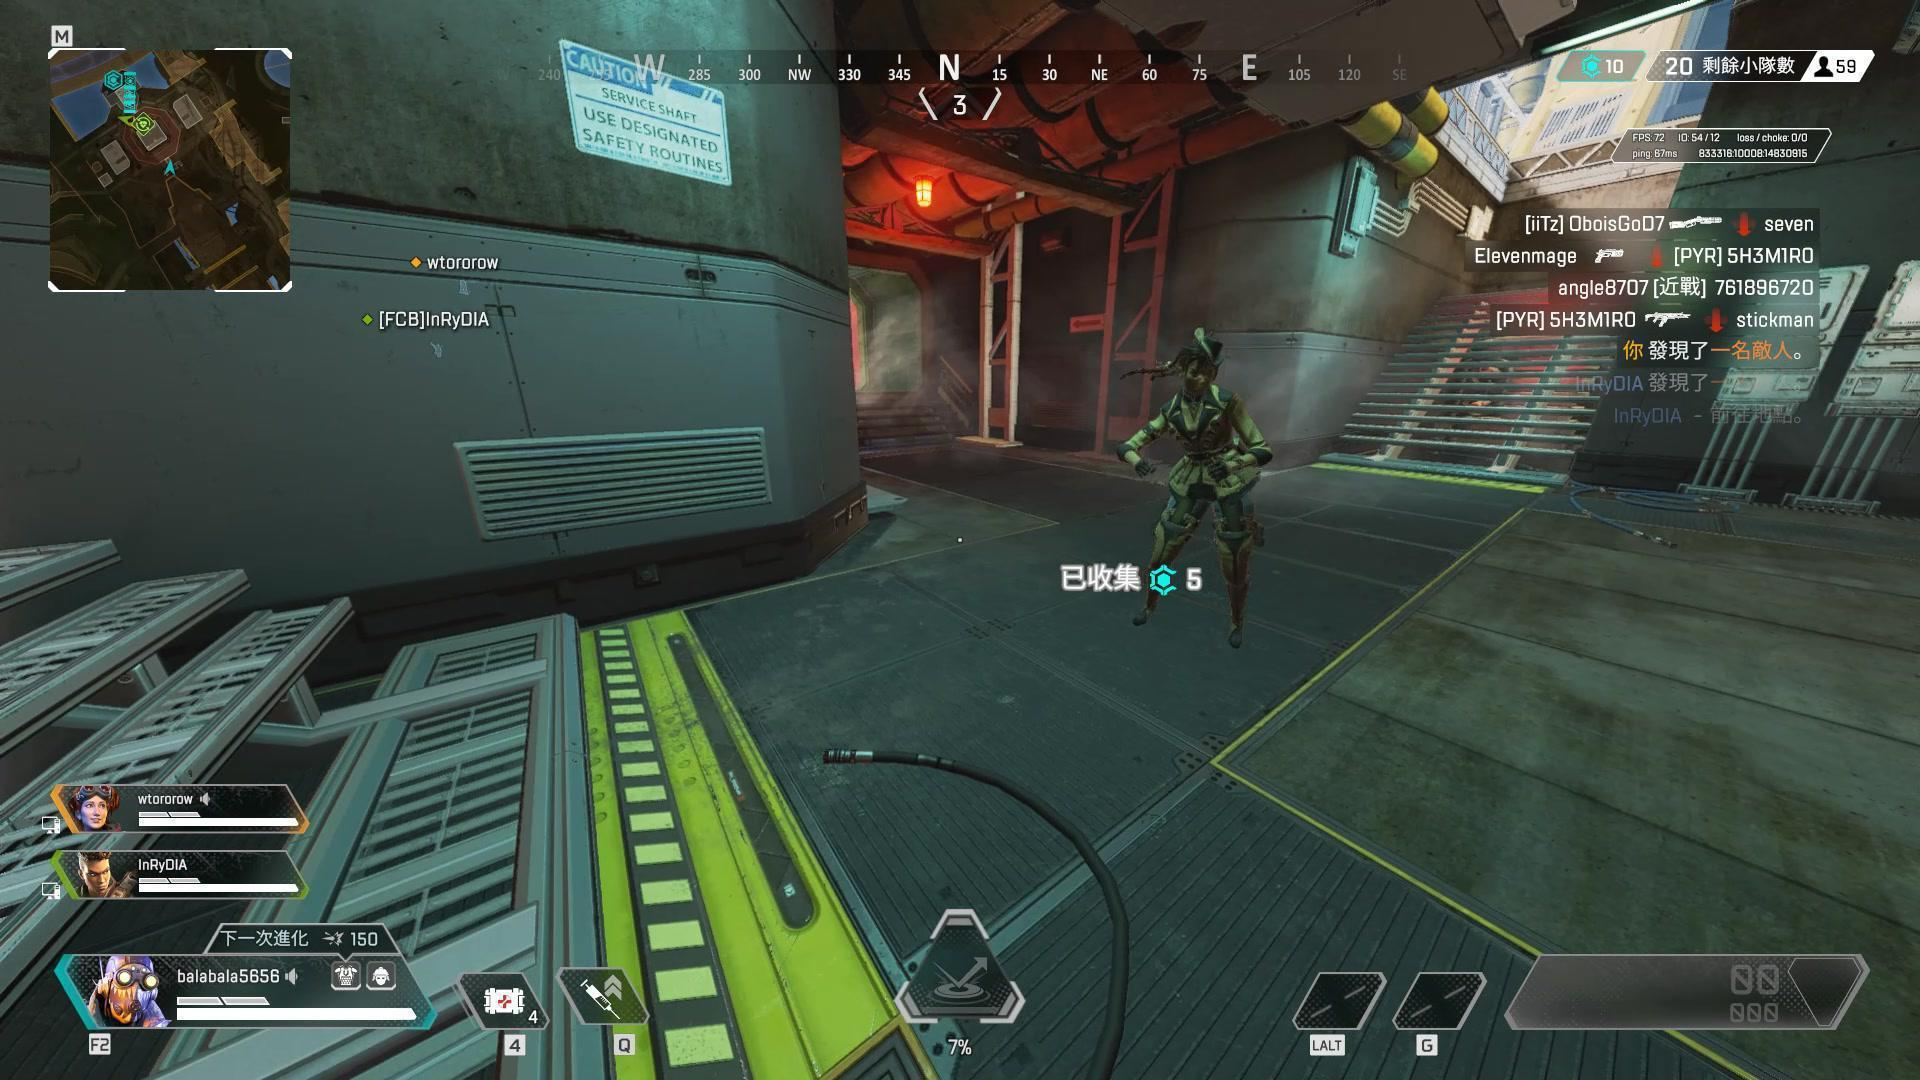avatar: (1114, 337, 1275, 653)
